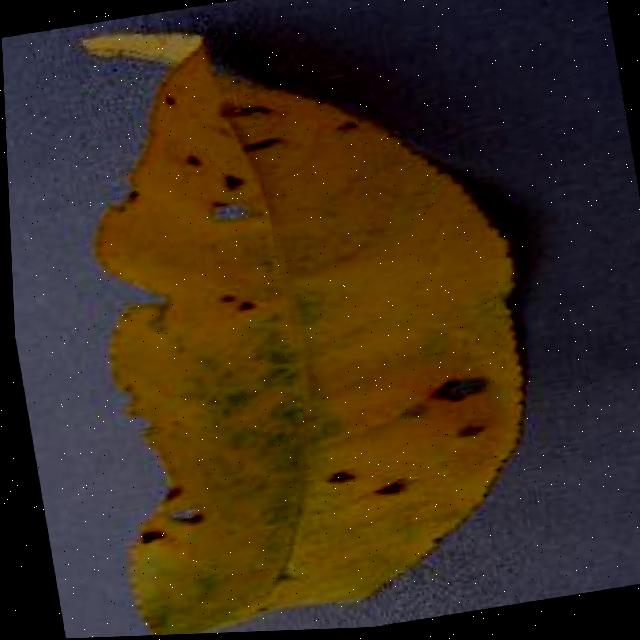Bacterial_spot: (117, 472, 228, 572), (304, 450, 427, 535), (199, 268, 281, 339), (216, 122, 302, 171), (199, 88, 265, 131), (163, 138, 213, 186), (316, 97, 368, 142), (206, 154, 255, 201), (144, 73, 195, 115)
